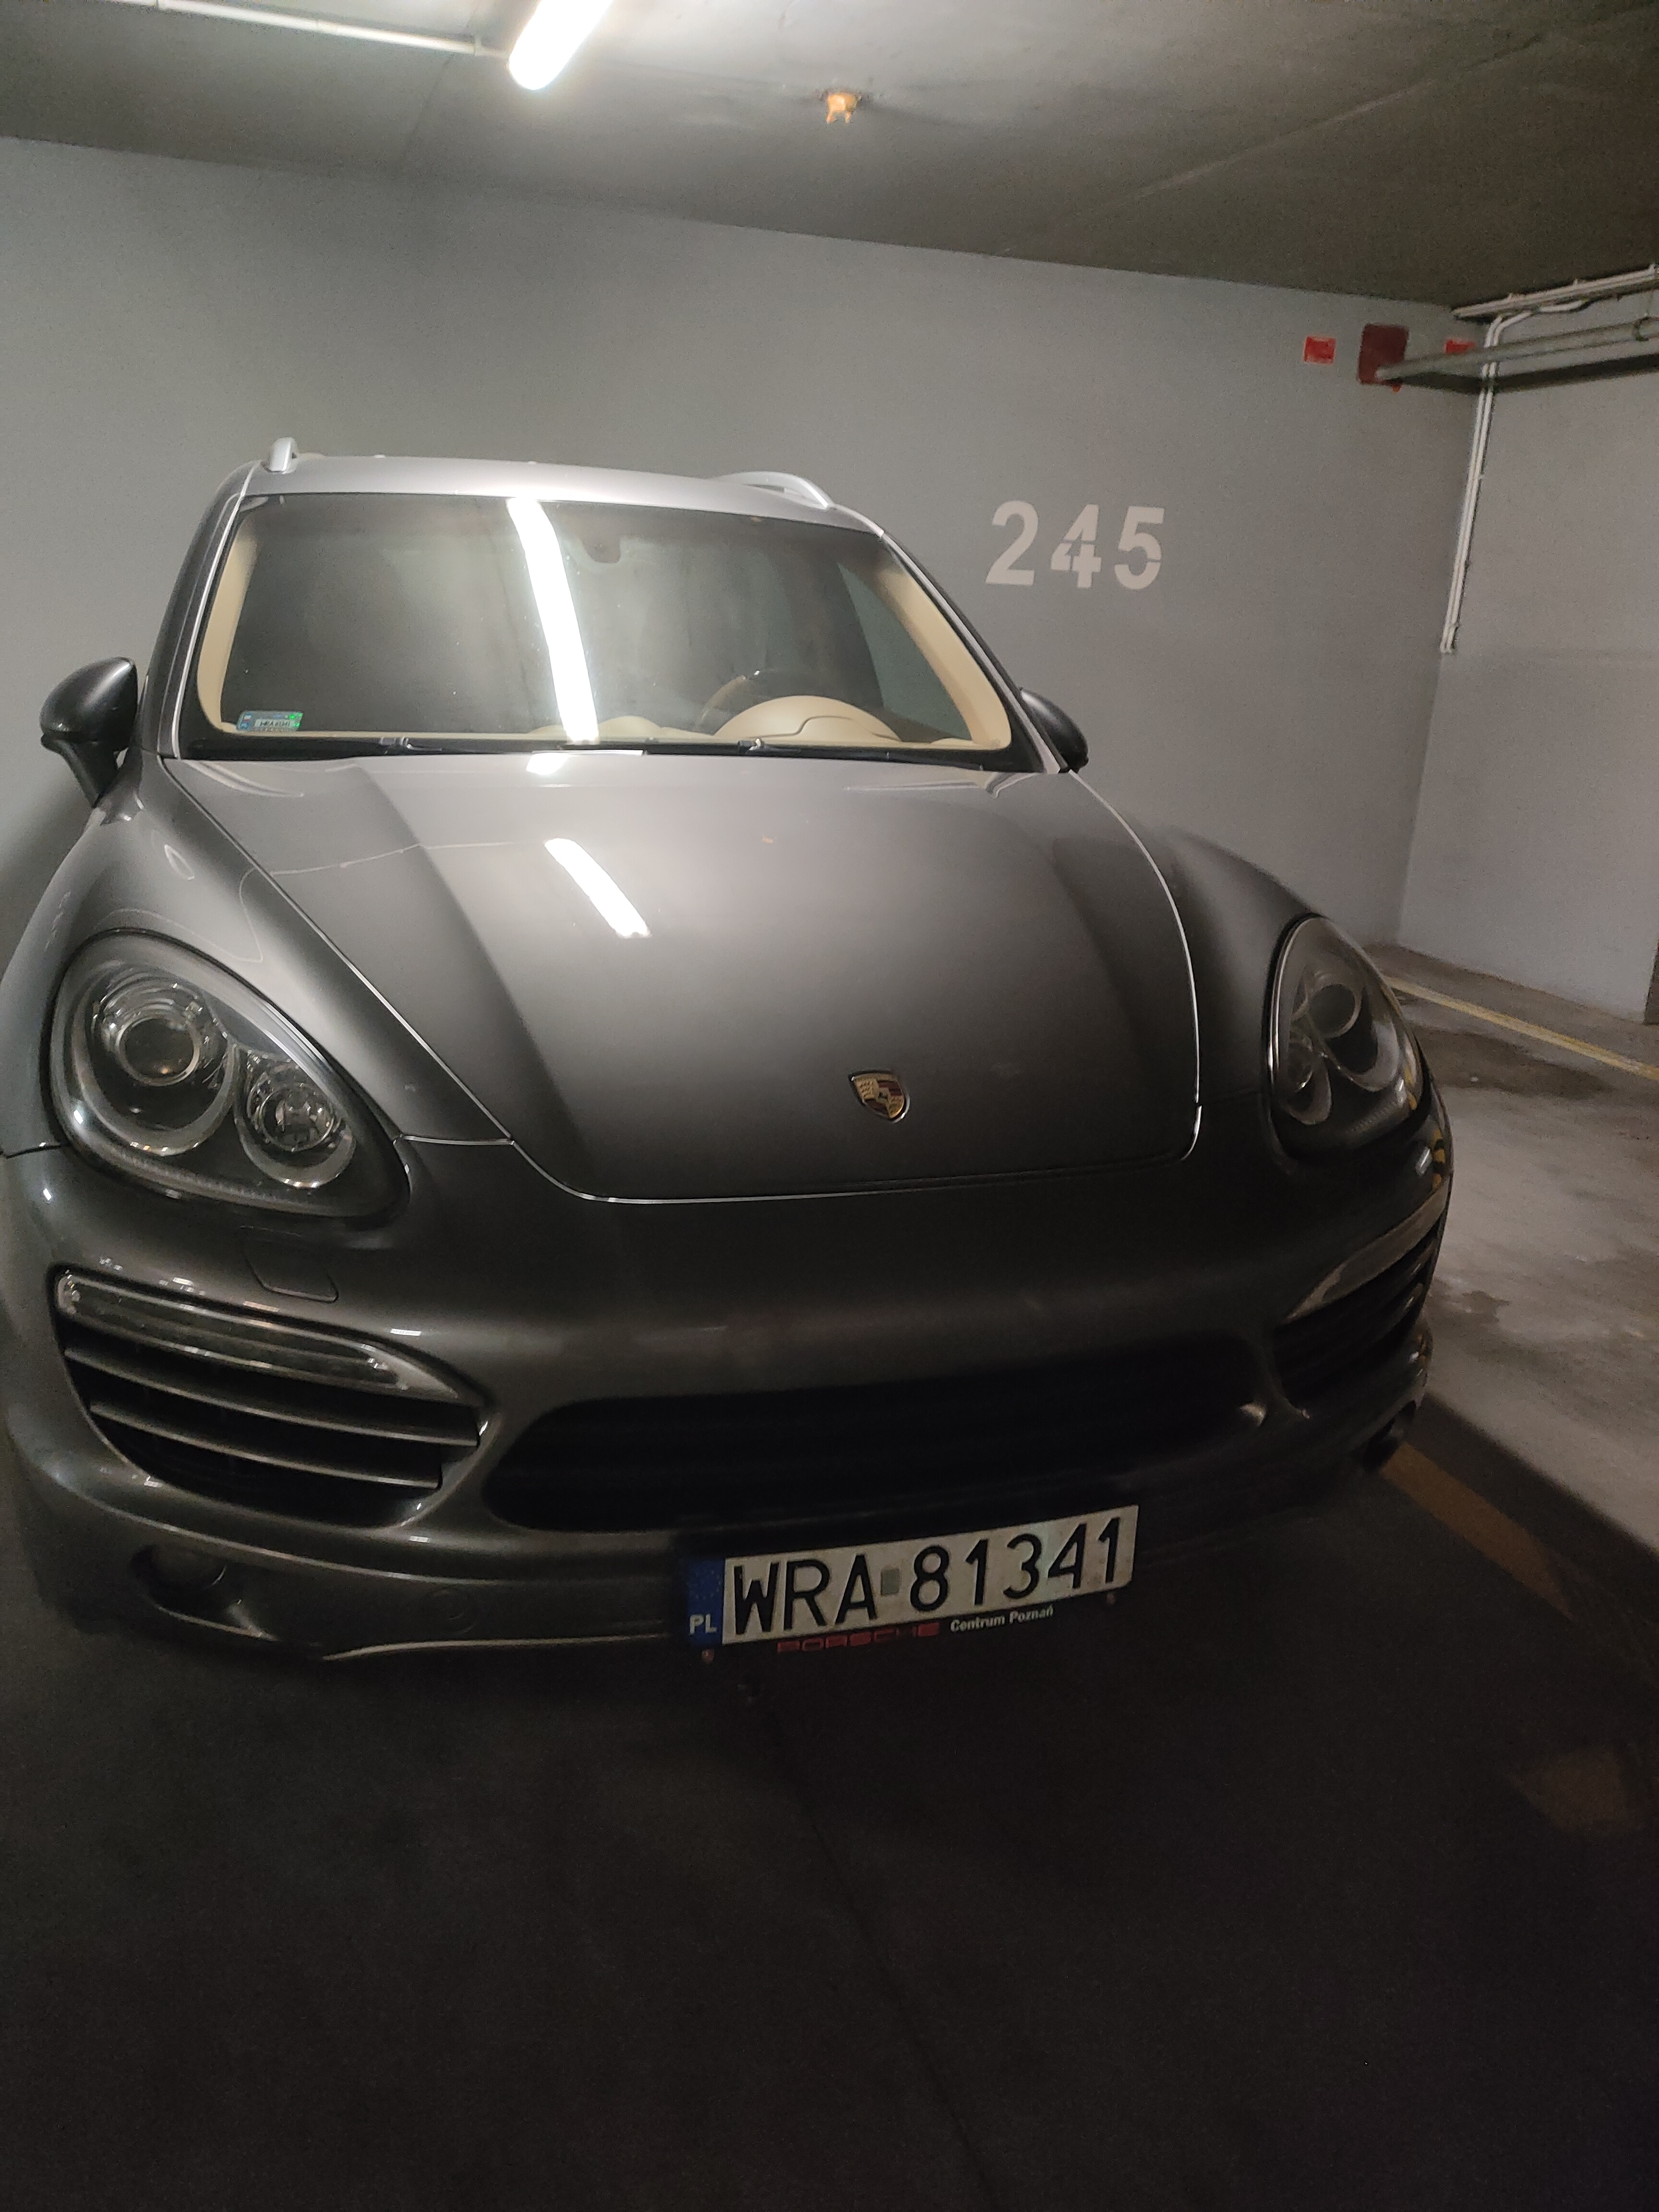number_plate: (676, 1497, 1137, 1672)
